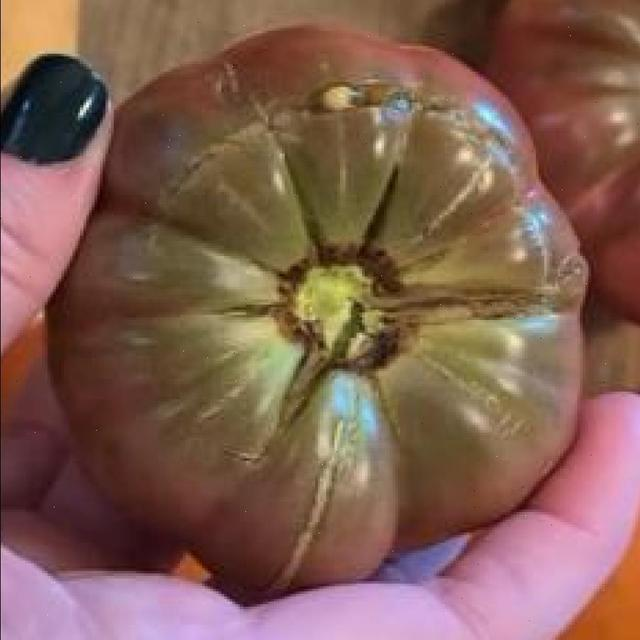Cracking Fruit: (94, 50, 370, 161)
